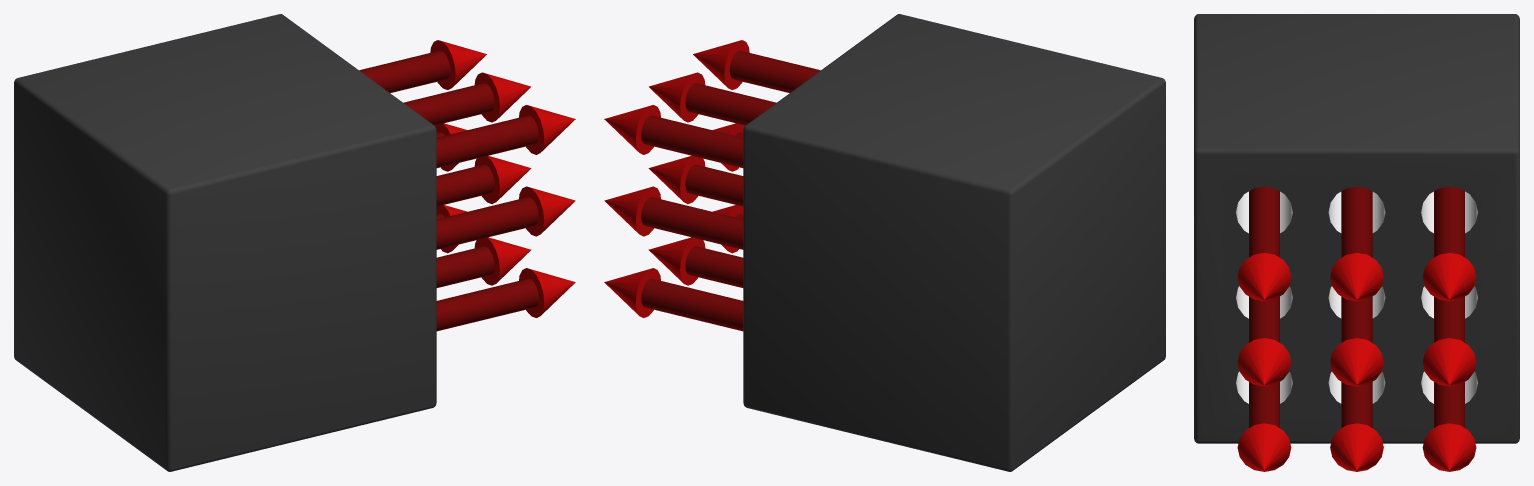
File: Spears.fbx
3 views of the same model, side by side, from view 1: azimuth 30°, elevation 25°; view 2: azimuth 150°, elevation 25°; view 3: azimuth 270°, elevation 25° (orthographic). The views are drawn at different scales.
Parts seen in each view (by area): view 1: Cube, Cone_0; view 2: Cube, Cone_0; view 3: Cube, Cone_0, Cylinder_0.
Part boxes in pixels (bbox=[...]): Cube: bbox=[14, 14, 436, 471]; Cone_0: bbox=[359, 40, 575, 331]; Cube: bbox=[743, 14, 1165, 471]; Cone_0: bbox=[604, 40, 820, 331]; Cube: bbox=[1194, 14, 1519, 443]; Cone_0: bbox=[1237, 186, 1476, 471]; Cylinder_0: bbox=[1236, 191, 1477, 403].
Size of the model in its own units: 327 by 200 by 200.
